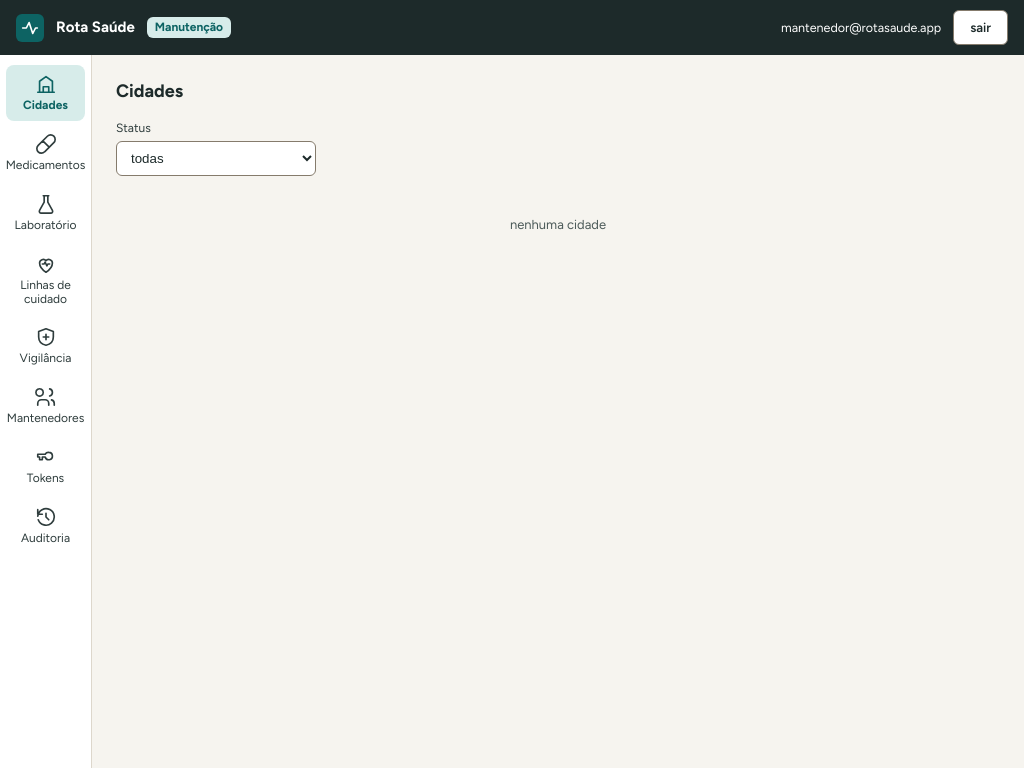
Test case: Shell › Linhas de cuidado abre o catálogo-base de linhas
The width and height of the screenshot is (1024, 768).
What coordinates should you click on to do the following:
click the button "Linhas de cuidado"
I would click on:
 (46, 280)
Its box is top-left (6, 245), bottom-right (85, 314).
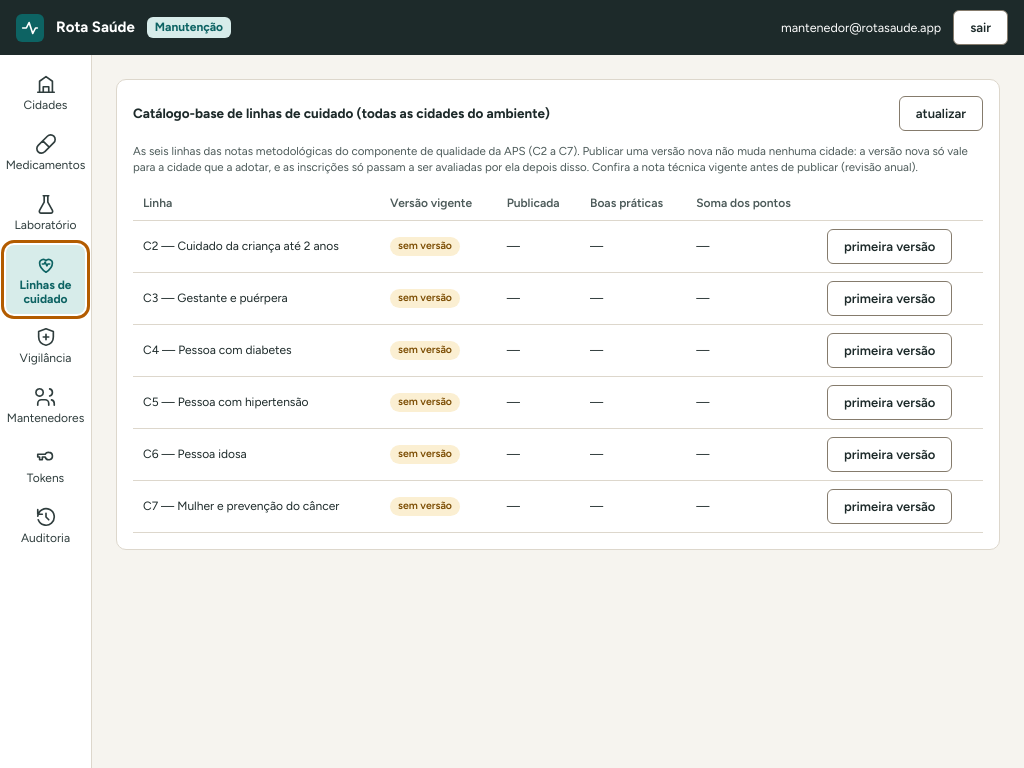
Expected: the text "C2 — Cuidado da criança até 2 anos" is shown, top-left (133, 220), bottom-right (380, 272)
